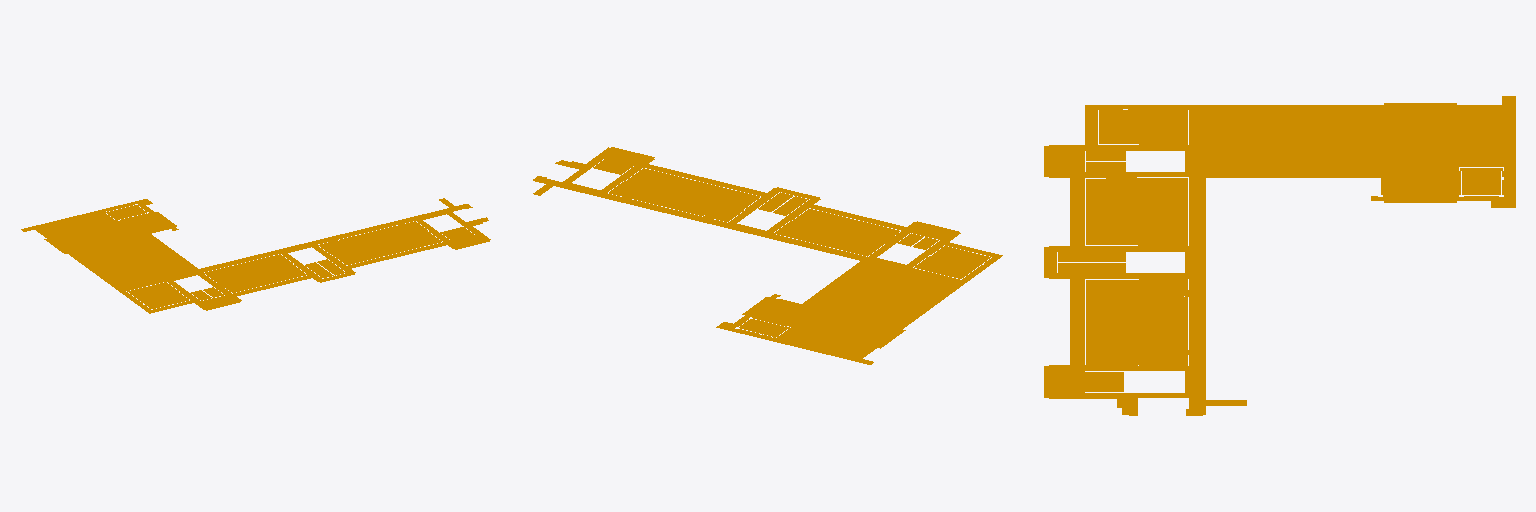
URDF robot description (plane):
<?xml version="0.0" ?>
<robot name="plane">
  <link name="planeLink">
  <contact>
      <lateral_friction value="1"/>
  </contact>
    <inertial>
      <origin rpy="0 0 0" xyz="0 0 0"/>
       <mass value=".0"/>
       <inertia ixx="0" ixy="0" ixz="0" iyy="0" iyz="0" izz="0"/>
    </inertial>
    <visual>
      <origin rpy="0 0 0" xyz="0 0 0"/>
      <geometry>
				<mesh filename="part2.obj" scale="1 1 1"/>
      </geometry>
       <material name="white">
        <!-- Add transparency for reflection -->
        <!--color rgba="1 1 1 .7"/-->
        <color rgb="1 1 1"/>
      </material>
    </visual>
  </link>
</robot>

--- What the picture shows (computed from the rendered views, not written in the file) ---
The picture shows the robot from 3 angles, left to right: view 1: azimuth 30°, elevation 25°; view 2: azimuth 150°, elevation 25°; view 3: azimuth 270°, elevation 25°; orthographic projection.
Robot: plane — 1 links, 0 joints (none); root link planeLink; default pose: every joint at zero.
Visible links, largest first — view 1: planeLink; view 2: planeLink; view 3: planeLink.
Boxes of the visible links, box(x1,y1,x2,y2) form: planeLink: box(21, 198, 490, 313); planeLink: box(533, 147, 1002, 364); planeLink: box(1044, 96, 1515, 415).
Size in the robot's own frame: 732 by 455 by 0 metres.
1 mesh visuals loaded from 1 distinct referenced files (1 OBJ).
